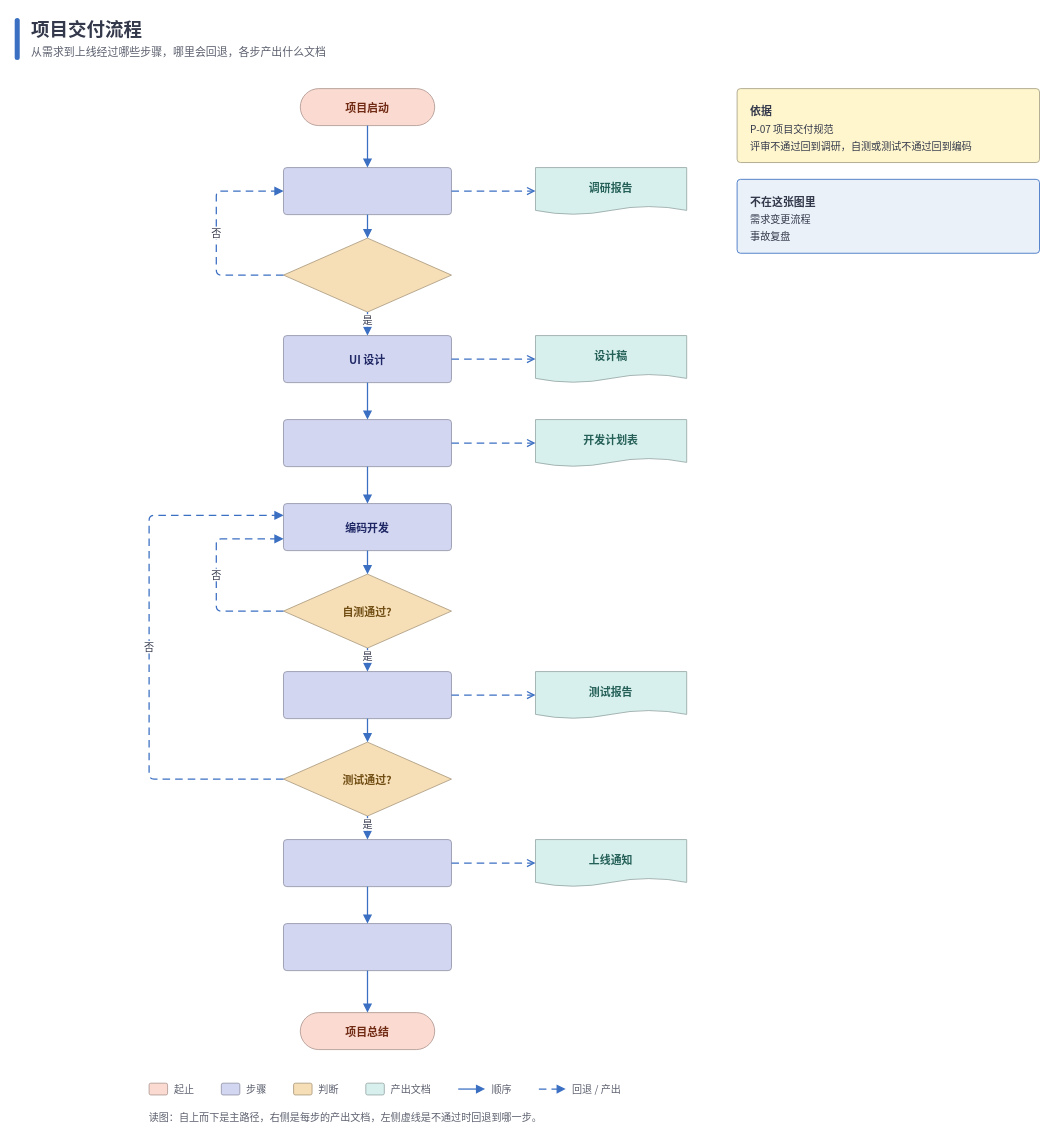
This 1054x1139 diagram has some shape labels left out. Each missing label, with the centre of its shape:
功能测试: (367,695)
开发计划: (367,443)
线上验证: (367,947)
部署上线: (367,863)
需求评审通过?: (367,274)
需求调研: (367,191)
